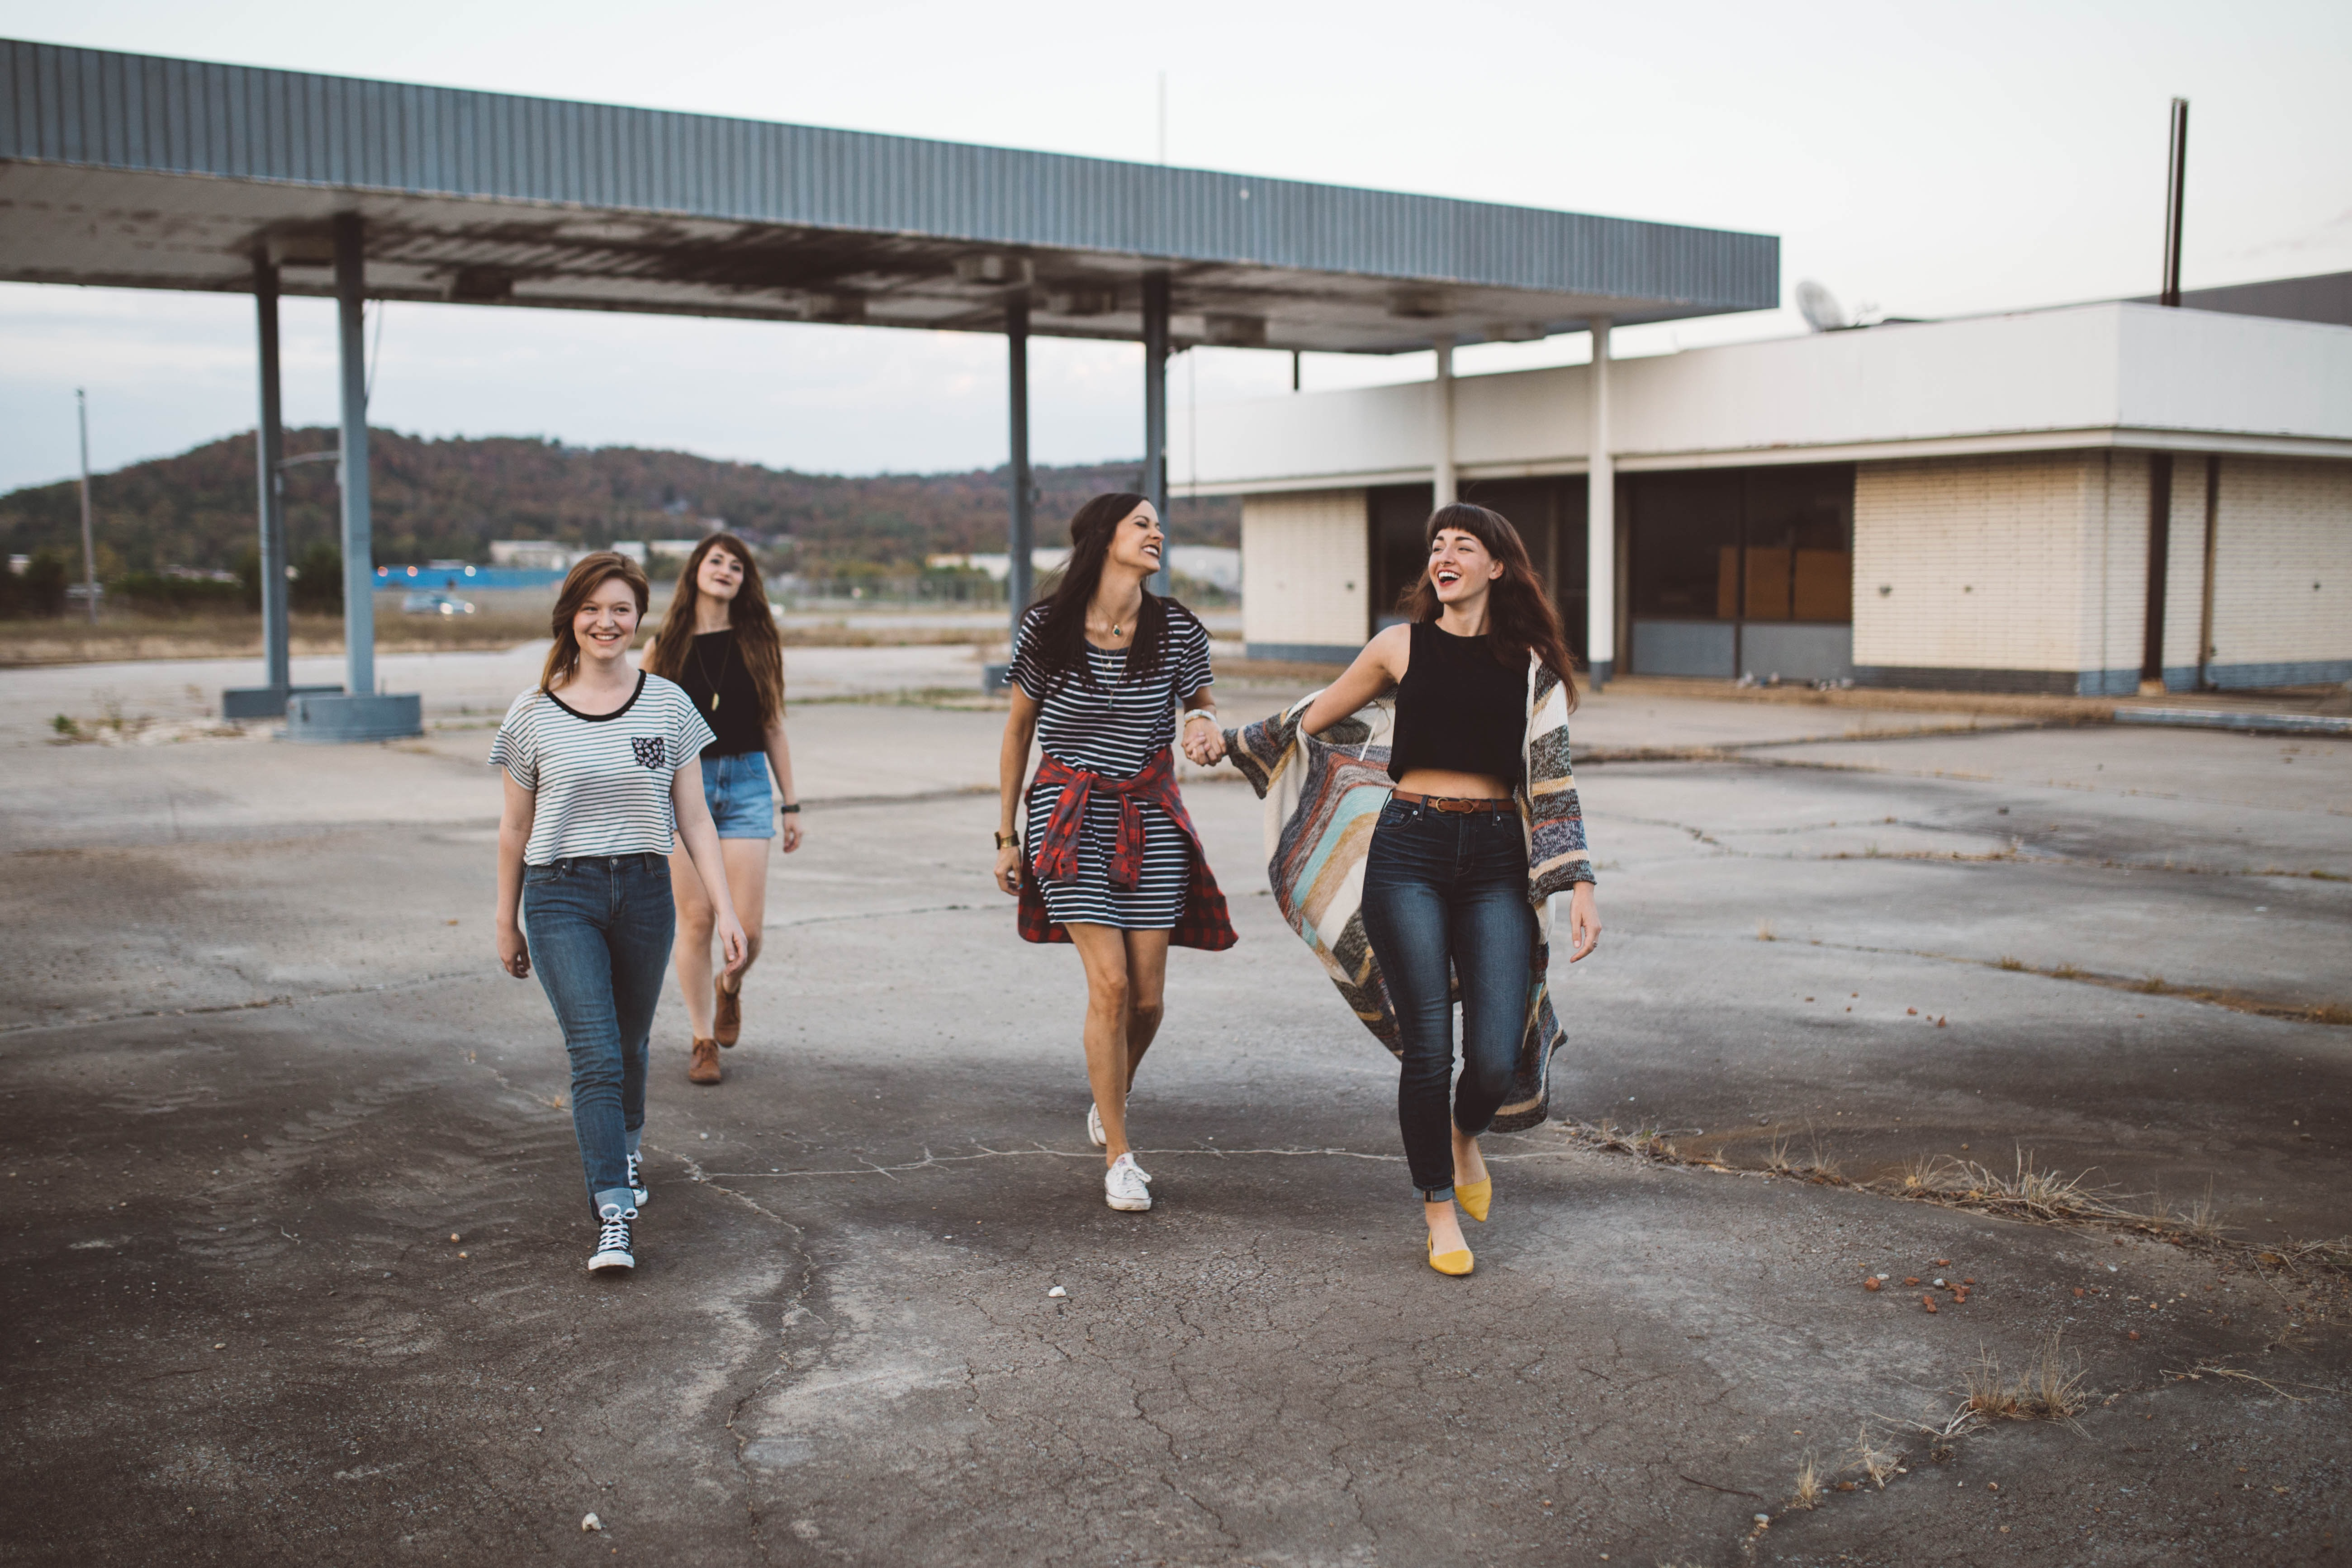person: (1250, 506, 1592, 1281), (498, 529, 749, 1308), (1007, 472, 1217, 1211), (654, 516, 806, 1073)
